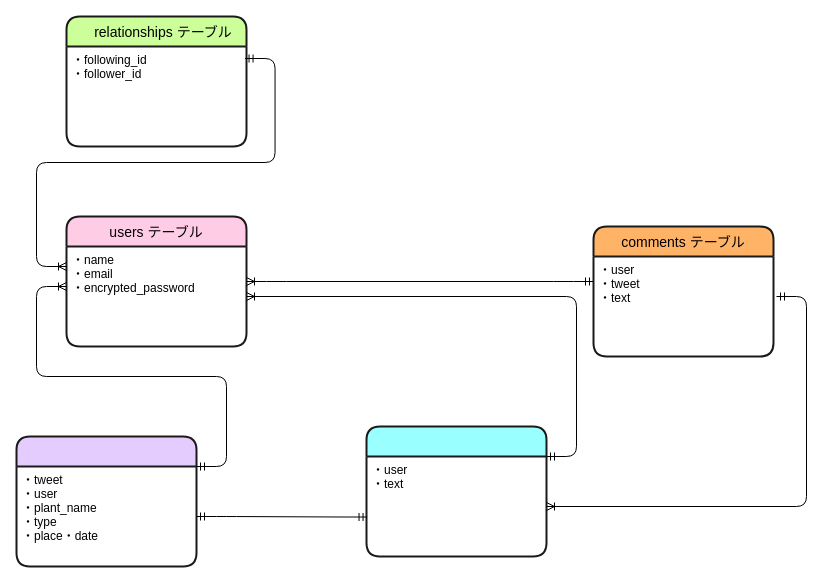
Image size: 823x583. Some labels were removed from this diagram. Each missing label, with the box of its shape:
pictorial books テーブル: (15, 435, 197, 567)
tweets テーブル: (365, 425, 547, 557)
